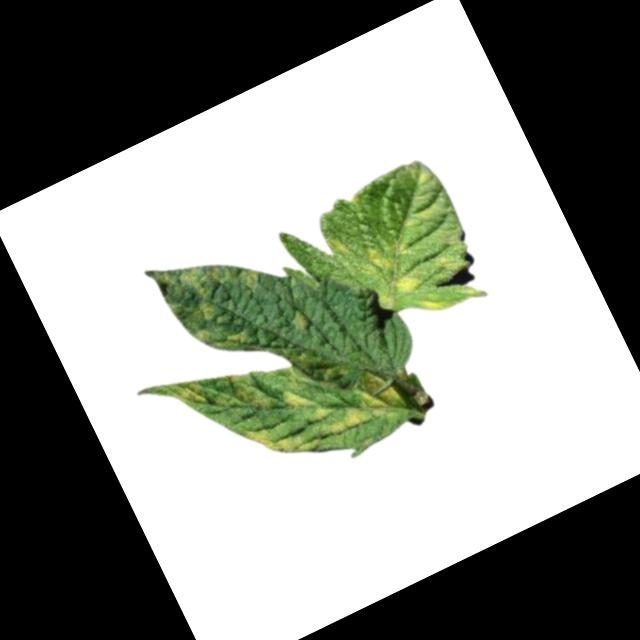Leaf_Mold: (149, 224, 293, 373), (314, 367, 408, 443), (352, 225, 430, 308), (241, 408, 306, 471), (225, 365, 272, 418), (171, 375, 212, 416), (432, 241, 472, 280), (279, 379, 315, 414), (323, 227, 354, 259), (288, 304, 318, 334)
